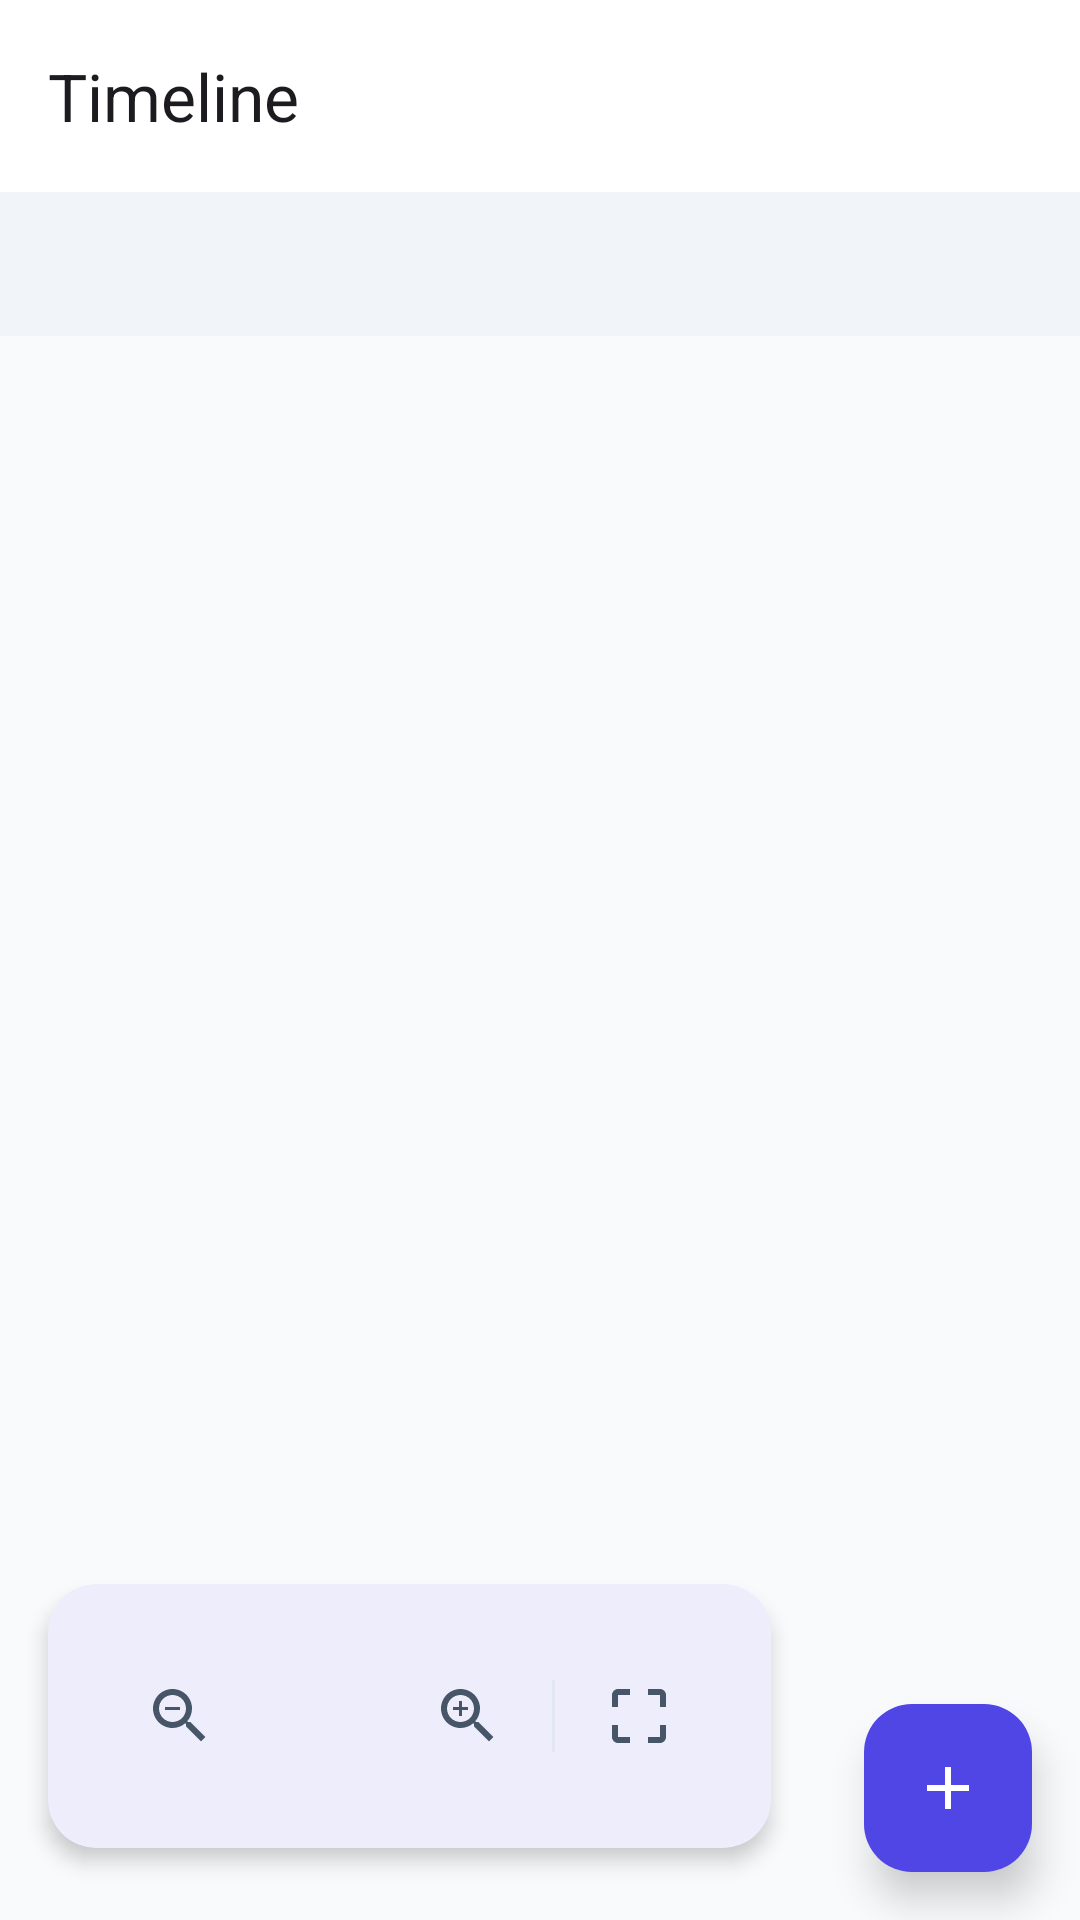

Locate icon controls on the screen. Image size 1080*1920, boxes as (x1, y1, x2, y2).
Add new item: (864, 1704, 1032, 1872)
Fit all: (612, 1689, 666, 1743)
Zoom in: (441, 1689, 493, 1741)
Zoom out: (153, 1689, 205, 1741)
